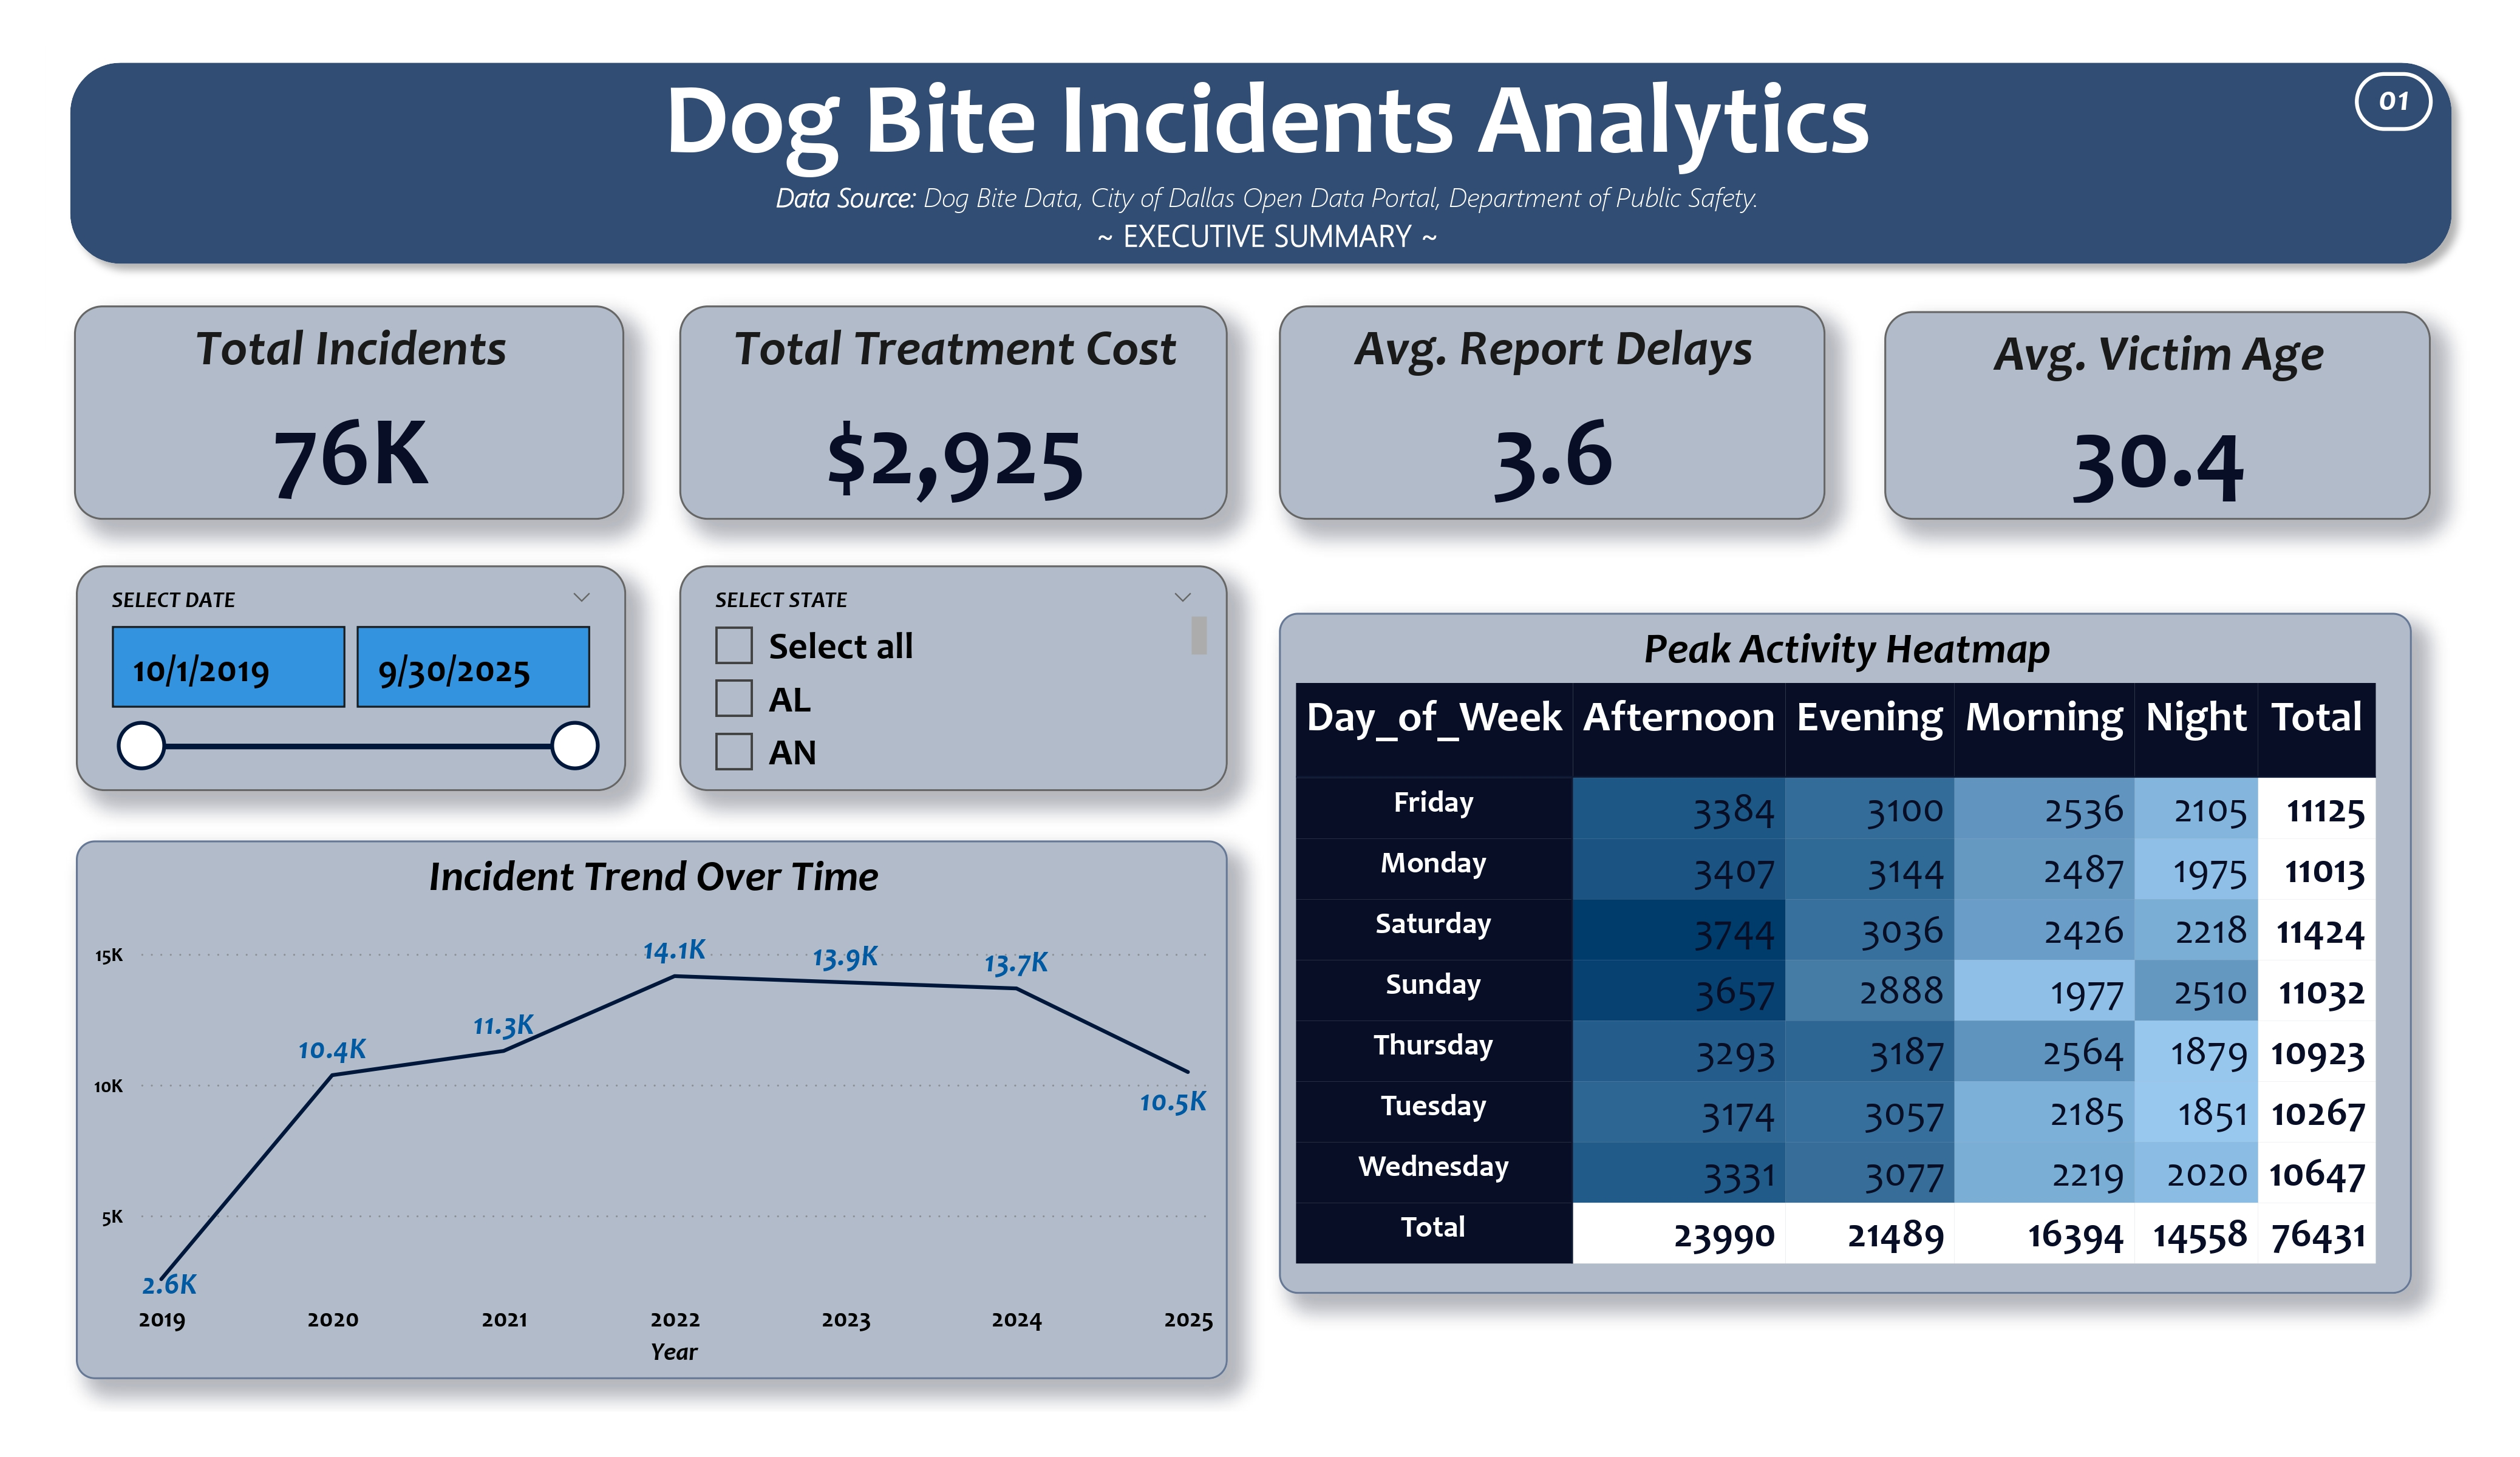

What the dashboard file says about the page in this screenshot:
{"tool":"powerbi","page":{"name":"Executive Summary","canvas":[1280,720],"ordinal":0},"visuals":[{"type":"shape","box":[4.4,0,1272.2,124.4],"z":0},{"type":"textbox","box":[7.6,0,1272.4,125.3],"z":1000},{"type":"card","title":"Total Incidents","fields":{"Values":["_Measures.Total_Incidents"]},"box":[15,136.7,290,113.3],"z":2000},{"type":"card","title":"Total Treatment Cost","fields":{"Values":["_Measures.Total_Cost"]},"box":[334.3,137.1,288.6,112.9],"z":3000},{"type":"card","title":"Avg. Report Delays","fields":{"Values":["_Measures.Avg_Report_Delay_Days"]},"box":[650,136.7,288.3,113.3],"z":4000},{"type":"card","title":"Avg. Victim Age","fields":{"Values":["_Measures.Average_Victim_Age"]},"box":[968.6,140,288.6,110],"z":5000},{"type":"slicer","fields":{"Values":["D_Date.Date"]},"box":[15.7,274.3,290,118.6],"z":6000},{"type":"slicer","fields":{"Values":["F_Incidents.State"]},"box":[334.3,274.3,288.6,118.6],"z":7000},{"type":"lineChart","title":"Incident Trend Over Time","fields":{"Category":["D_Date.Date.Variation.Date Hierarchy.Year","D_Date.Date.Variation.Date Hierarchy.Month"],"Y":["_Measures.Total Incidents"]},"box":[16.1,419.3,606.5,283.7],"z":8000},{"type":"pivotTable","title":"Peak Activity Heatmap","fields":{"Rows":["F_Incidents.Day_of_Week"],"Columns":["F_Incidents.Time_of_Day"],"Values":["_Measures.Total Incidents"]},"box":[650.2,298.7,597.3,359.5],"z":9000},{"type":"textbox","box":[1217.1,14.1,40.6,31.2],"z":10000}]}

Visuals, with their boxes in screenshot pixels (x1, y1, x2, y2):
shape: {"left": 54, "top": 46, "right": 2468, "bottom": 282}
textbox: {"left": 60, "top": 46, "right": 2474, "bottom": 284}
"Total Incidents" card: {"left": 74, "top": 305, "right": 624, "bottom": 520}
"Total Treatment Cost" card: {"left": 680, "top": 305, "right": 1228, "bottom": 520}
"Avg. Report Delays" card: {"left": 1279, "top": 305, "right": 1826, "bottom": 520}
"Avg. Victim Age" card: {"left": 1884, "top": 311, "right": 2431, "bottom": 520}
slicer - D_Date.Date: {"left": 75, "top": 566, "right": 625, "bottom": 791}
slicer - F_Incidents.State: {"left": 680, "top": 566, "right": 1228, "bottom": 791}
"Incident Trend Over Time" lineChart: {"left": 76, "top": 841, "right": 1227, "bottom": 1379}
"Peak Activity Heatmap" pivotTable: {"left": 1279, "top": 612, "right": 2413, "bottom": 1294}
textbox: {"left": 2355, "top": 72, "right": 2432, "bottom": 132}
